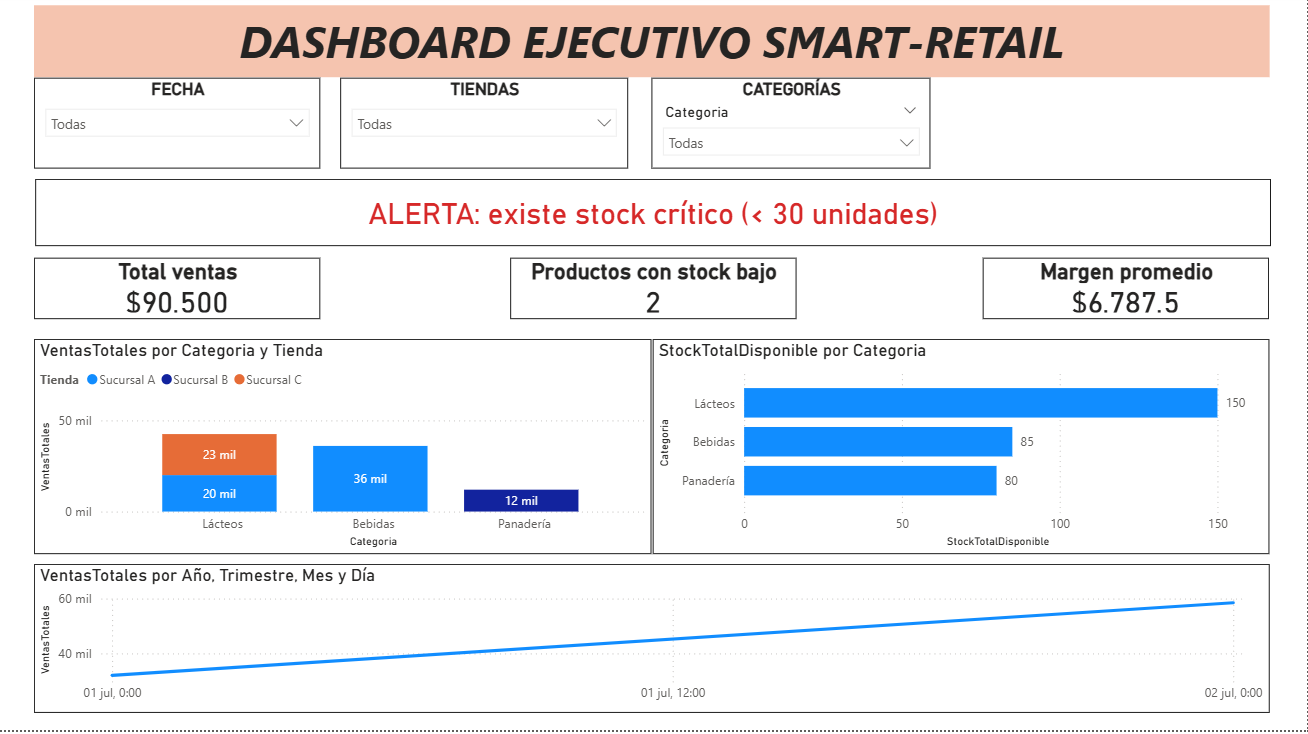

This screenshot's page, from the dashboard's own definition file:
{"tool":"powerbi","page":{"name":"DASHBOARD EJECUTIVO","canvas":[1280,720],"ordinal":2},"visuals":[{"type":"card","title":"Total ventas","fields":{"Values":["hechos_ventas_combinacion.VentasTotales"]},"box":[34.3,258.6,280,60],"z":0},{"type":"card","title":"Productos con stock bajo","fields":{"Values":["hechos_inventario.ProductosStockBajo"]},"box":[500,258.6,280,60],"z":1000},{"type":"card","title":"Margen promedio","fields":{"Values":["Medidas_KPI.MargenPromedioEstimado"]},"box":[962.9,258.6,280,60],"z":2000},{"type":"columnChart","fields":{"Category":["Dim_productos.Categoria"],"Series":["Dim_tienda.Tienda"],"Y":["hechos_ventas_combinacion.VentasTotales"]},"box":[34.3,337.1,604.3,210],"z":3000},{"type":"barChart","fields":{"Category":["Dim_productos.Categoria"],"Y":["hechos_inventario.StockTotalDisponible"]},"box":[640,337.1,602.9,210],"z":4000},{"type":"lineChart","fields":{"Category":["Dim_fecha.Fecha.Variación.Jerarquía de fechas.Año","Dim_fecha.Fecha.Variación.Jerarquía de fechas.Trimestre","Dim_fecha.Fecha.Variación.Jerarquía de fechas.Mes","Dim_fecha.Fecha.Variación.Jerarquía de fechas.Día"],"Y":["hechos_ventas_combinacion.VentasTotales"]},"box":[34.3,557.1,1208.6,145.7],"z":5000},{"type":"textbox","box":[34.3,11.4,1208.6,70],"z":6000},{"type":"slicer","title":"FECHA","fields":{"Values":["Dim_fecha.Fecha.Variación.Jerarquía de fechas.Año","Dim_fecha.Fecha.Variación.Jerarquía de fechas.Trimestre","Dim_fecha.Fecha.Variación.Jerarquía de fechas.Mes","Dim_fecha.Fecha.Variación.Jerarquía de fechas.Día"]},"box":[34.3,81.4,280,88.6],"z":7000},{"type":"slicer","title":"TIENDAS","fields":{"Values":["Dim_tienda.Tienda"]},"box":[334.3,81.4,281.4,88.6],"z":8000},{"type":"slicer","title":"CATEGORÍAS","fields":{"Values":["Dim_productos.Categoria"]},"box":[638.6,81.4,272.9,88.6],"z":9000},{"type":"card","fields":{"Values":["hechos_inventario.AlertaStock"]},"box":[35.7,181.4,1208.6,65.7],"z":10000}]}

Visuals, with their boxes in screenshot pixels (x1, y1, x2, y2), scaled from the page's 1280x720 canvas onto the 1308x734 screenshot:
"Total ventas" card: <bbox>35, 264, 321, 325</bbox>
"Productos con stock bajo" card: <bbox>511, 264, 797, 325</bbox>
"Margen promedio" card: <bbox>984, 264, 1270, 325</bbox>
columnChart - Dim_productos.Categoria x Dim_tienda.Tienda: <bbox>35, 344, 653, 558</bbox>
barChart - Dim_productos.Categoria x hechos_inventario.StockTotalDisponible: <bbox>654, 344, 1270, 558</bbox>
lineChart - Dim_fecha.Fecha.Variación.Jerarquía de fechas.Año x Dim_fecha.Fecha.Variación.Jerarquía de fechas.Trimestre: <bbox>35, 568, 1270, 716</bbox>
textbox: <bbox>35, 12, 1270, 83</bbox>
"FECHA" slicer: <bbox>35, 83, 321, 173</bbox>
"TIENDAS" slicer: <bbox>342, 83, 629, 173</bbox>
"CATEGORÍAS" slicer: <bbox>653, 83, 931, 173</bbox>
card - hechos_inventario.AlertaStock: <bbox>36, 185, 1272, 252</bbox>
